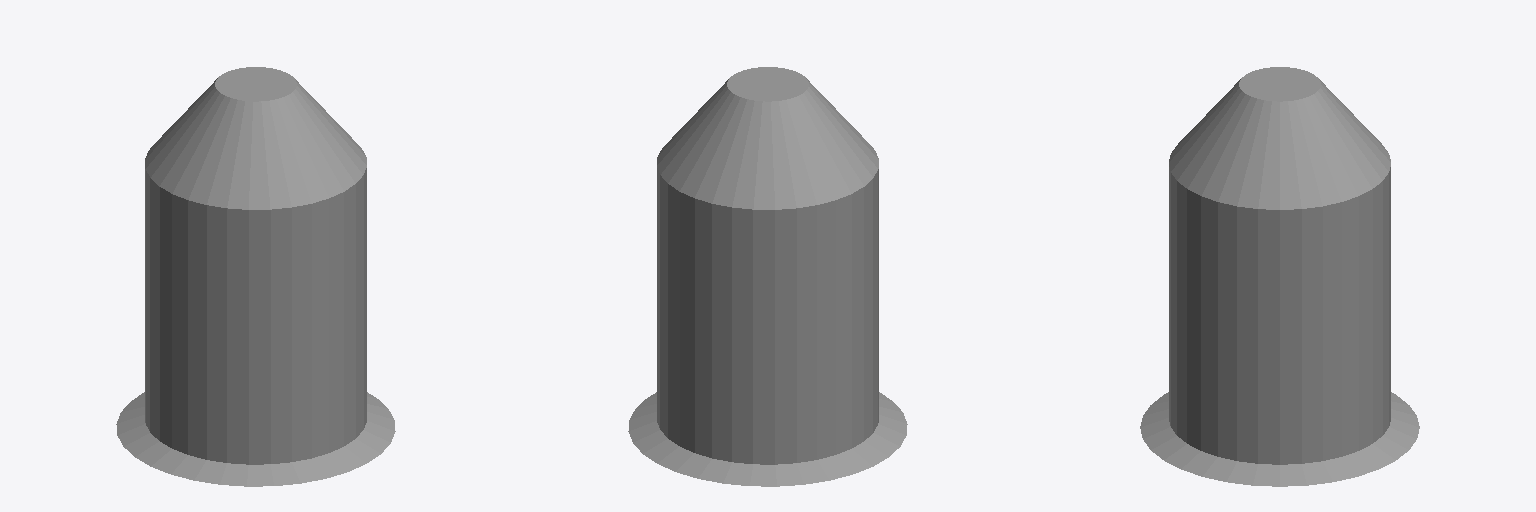
Rendered from bullet.obj.
3 views of the same model, side by side, from view 1: azimuth 30°, elevation 25°; view 2: azimuth 150°, elevation 25°; view 3: azimuth 270°, elevation 25° (orthographic).
Parts seen in each view (by area): view 1: Bullet_Cylinder; view 2: Bullet_Cylinder; view 3: Bullet_Cylinder.
Part boxes in pixels (bbox=[...]): Bullet_Cylinder: bbox=[116, 67, 395, 486]; Bullet_Cylinder: bbox=[628, 67, 907, 486]; Bullet_Cylinder: bbox=[1140, 67, 1419, 486].
Size of the model in its own units: 0.204 by 0.2763 by 0.204.